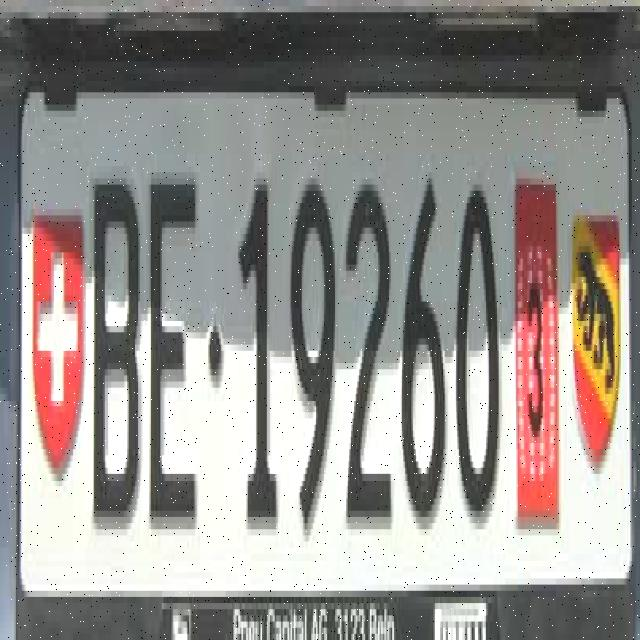Autre: (19, 85, 636, 604)
